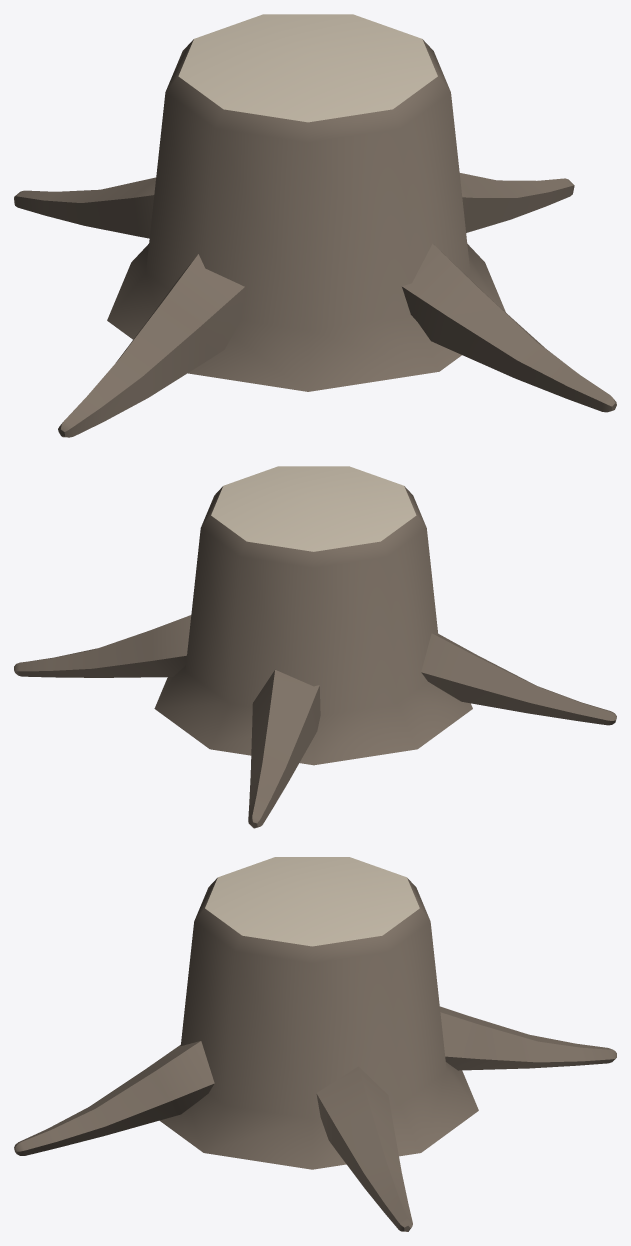
Rendered from stump.gltf.
3 renders of one model, top to bottom at view 1: azimuth 30°, elevation 25°; view 2: azimuth 150°, elevation 25°; view 3: azimuth 270°, elevation 25°, orthographic. The views are drawn at different scales.
Parts seen in each view (by area): view 1: Body; view 2: Body; view 3: Body.
Boxes of the visible parts, box(x1,y1,x2,y2) form: Body: box(14, 14, 616, 437); Body: box(14, 466, 616, 828); Body: box(14, 857, 616, 1231).
Bounding box in the file's own units: 2.23 × 0.8689 × 2.21.
